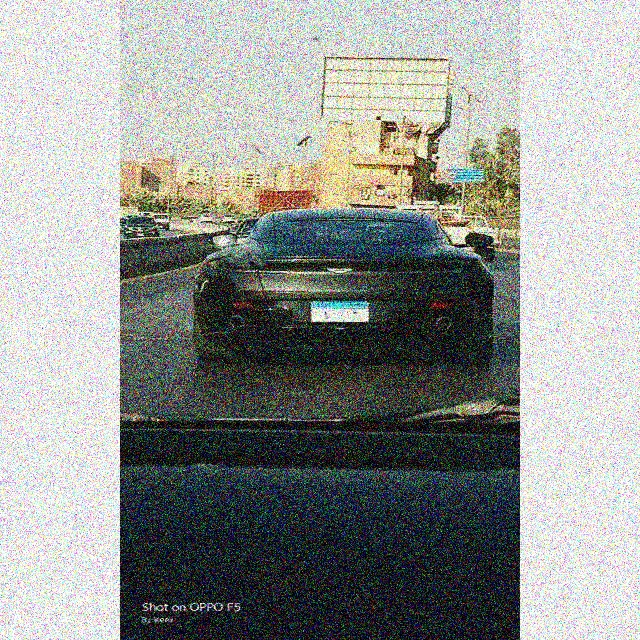License Plate: (308, 298, 371, 324)
